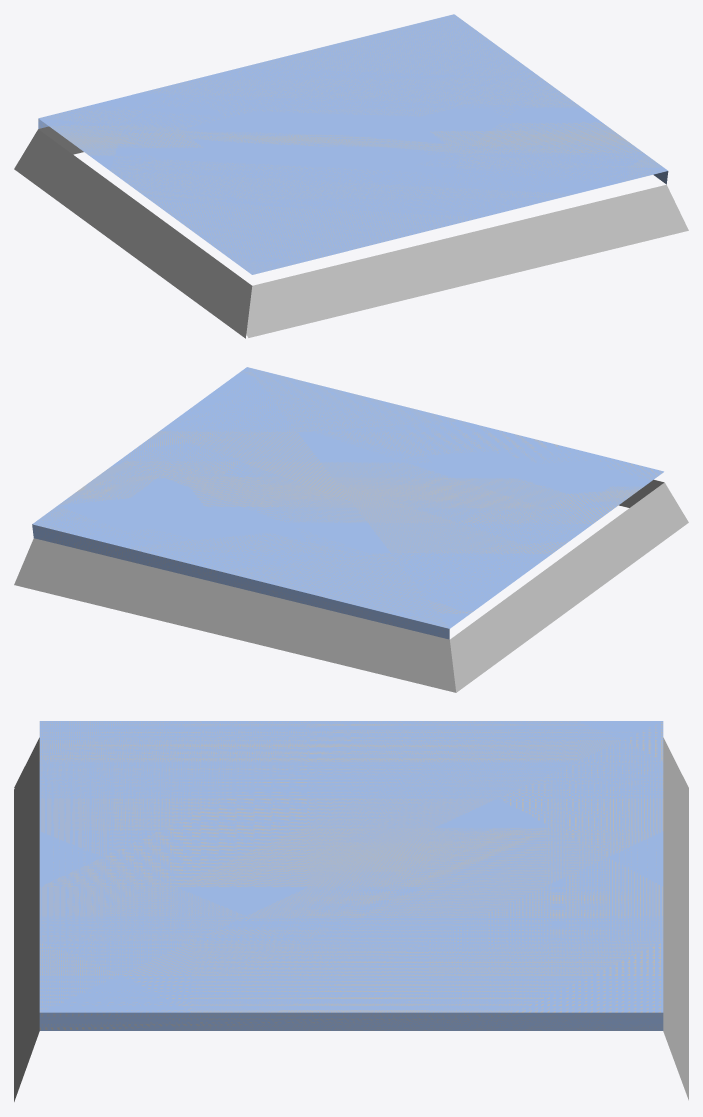
File: original-17.obj
3 views of the same model, one above another, from view 1: azimuth 30°, elevation 25°; view 2: azimuth 150°, elevation 25°; view 3: azimuth 270°, elevation 25° (orthographic). The views are drawn at different scales.
Visible parts, largest first — view 1: tus16/tus/mesh1/mesh1-geometry#mesh1-geometry; view 2: tus16/tus/mesh1/mesh1-geometry#mesh1-geometry; view 3: tus16/tus/mesh1/mesh1-geometry#mesh1-geometry.
Boxes of the visible parts, <box> form: tus16/tus/mesh1/mesh1-geometry#mesh1-geometry: <box>14,14,688,338</box>; tus16/tus/mesh1/mesh1-geometry#mesh1-geometry: <box>14,367,688,692</box>; tus16/tus/mesh1/mesh1-geometry#mesh1-geometry: <box>14,721,688,1101</box>.
Bounding box in the file's own units: 0.0476 × 0.00578 × 0.0432.
